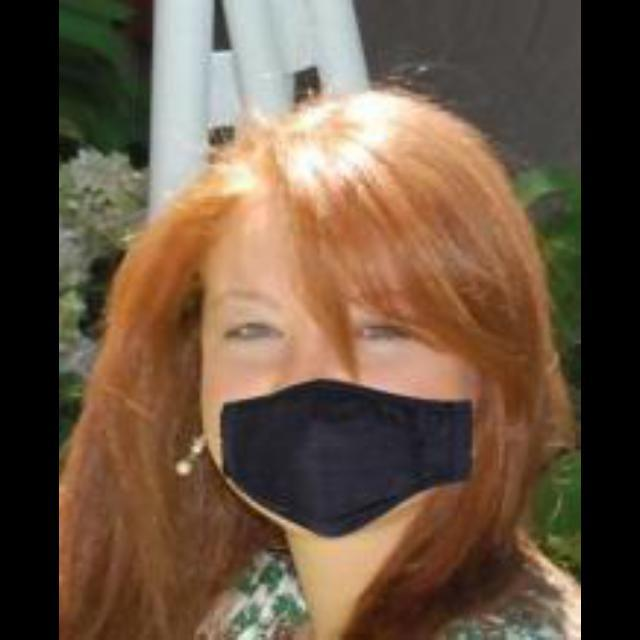suspicion: (196, 138, 536, 550)
